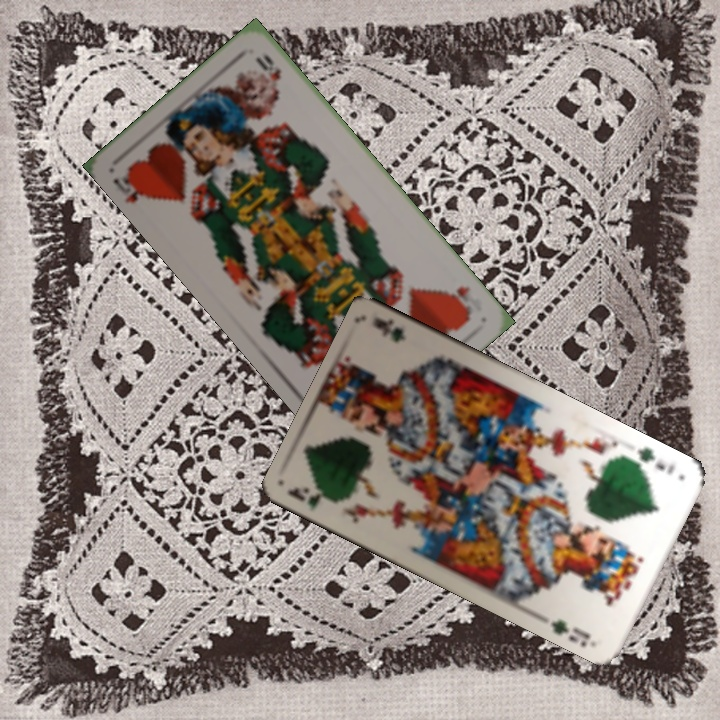GK: (284, 483, 345, 513), (633, 443, 678, 477)
HO: (108, 165, 157, 206), (441, 282, 485, 321)
